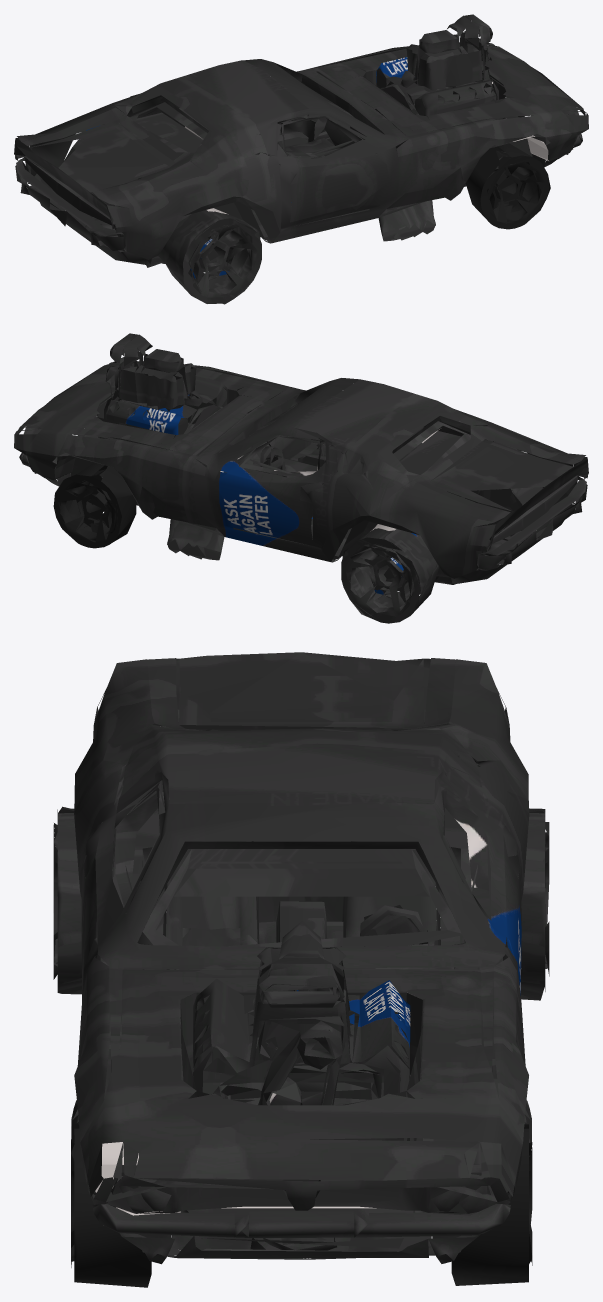
The model's file is car_hotwh_LOD02.fbx.
The picture shows the model from 3 angles, top to bottom: view 1: azimuth 30°, elevation 25°; view 2: azimuth 150°, elevation 25°; view 3: azimuth 270°, elevation 25°; orthographic projection. The views are drawn at different scales.
Visible parts, largest first — view 1: car005; view 2: car005; view 3: car005.
Part boxes in pixels (box(x1,y1,x2,y2)): car005: box(14, 14, 588, 304); car005: box(14, 333, 588, 623); car005: box(53, 652, 549, 1287).
Size of the model in its own units: 461 by 148 by 202.
5 materials, 4 textured.
